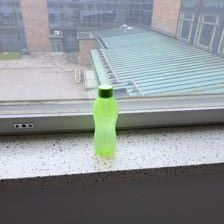bottle: (87, 82, 123, 161)
